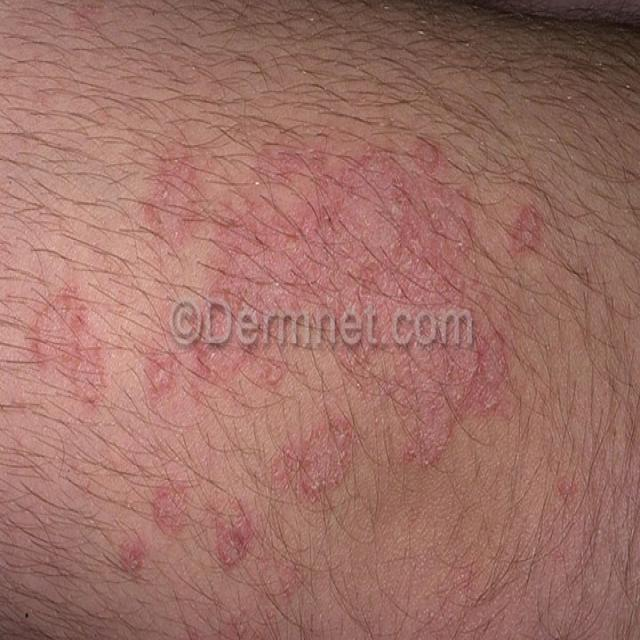Eczema: (24, 114, 536, 610)
